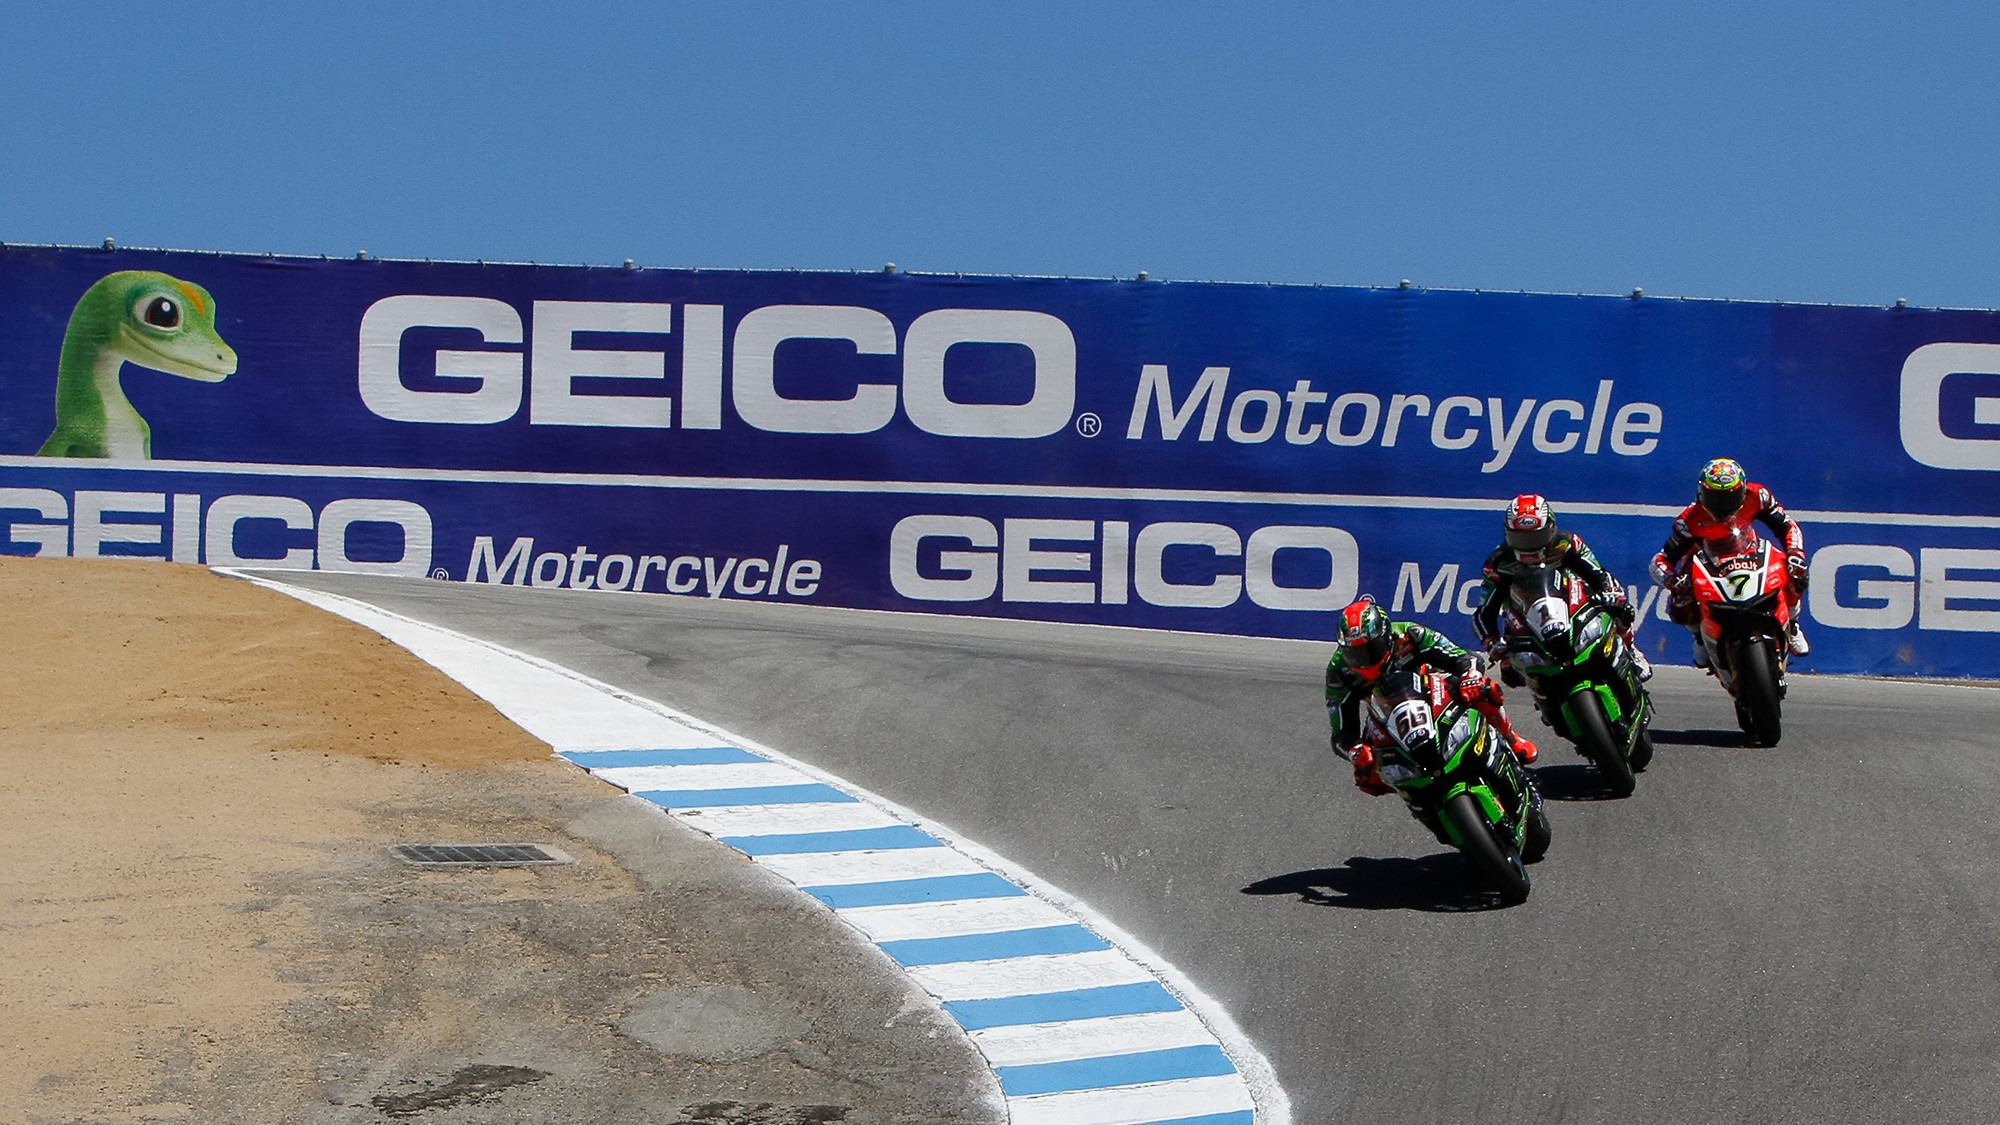Geico: (885, 490, 2000, 680), (348, 288, 1114, 453), (1, 482, 468, 571)
